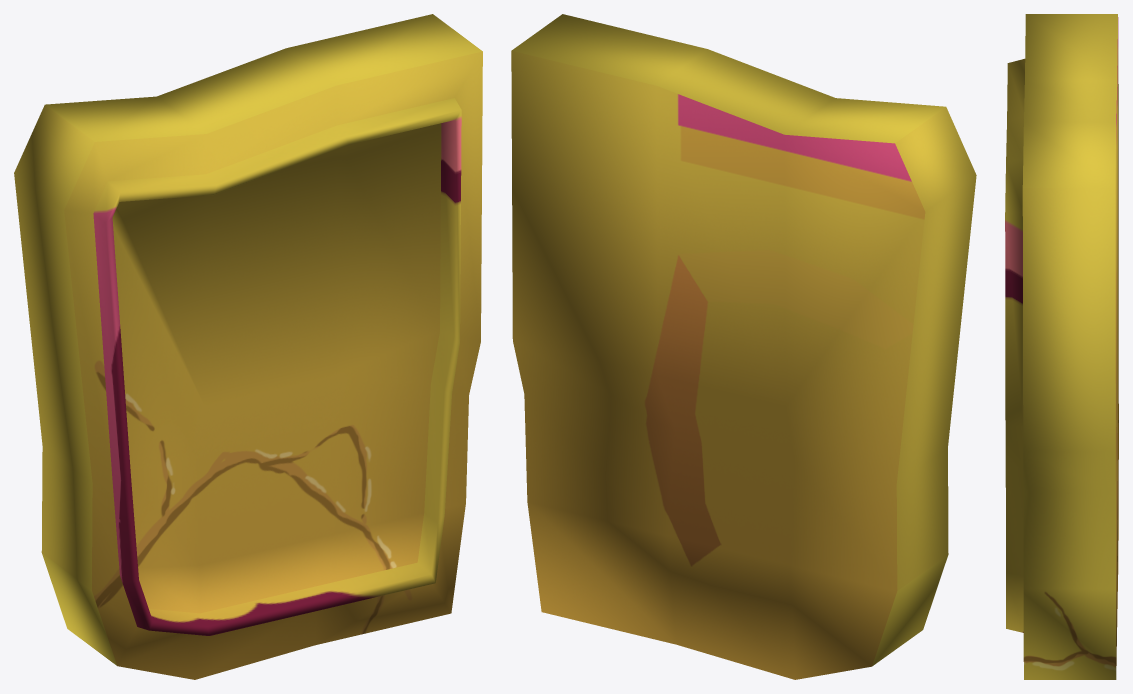
File: tablet_square.fbx
3 views of the same model, side by side, from view 1: azimuth 30°, elevation 25°; view 2: azimuth 150°, elevation 25°; view 3: azimuth 270°, elevation 25° (orthographic). The views are drawn at different scales.
Parts seen in each view (by area): view 1: Cube.009; view 2: Cube.009; view 3: Cube.009.
Boxes of the visible parts, x1=… form: Cube.009: x1=14, y1=14, x2=482, y2=679; Cube.009: x1=511, y1=14, x2=976, y2=679; Cube.009: x1=1005, y1=14, x2=1118, y2=679.
Bounding box in the file's own units: 157 × 203 × 40.76.
